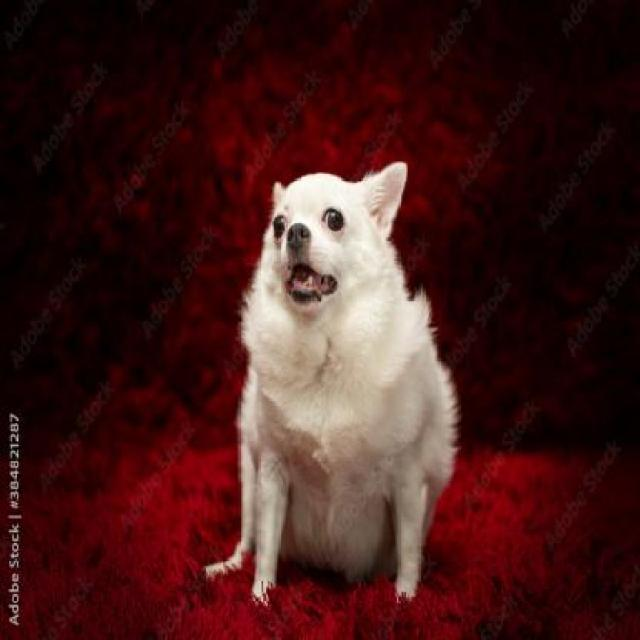Dog: (203, 160, 465, 617)
